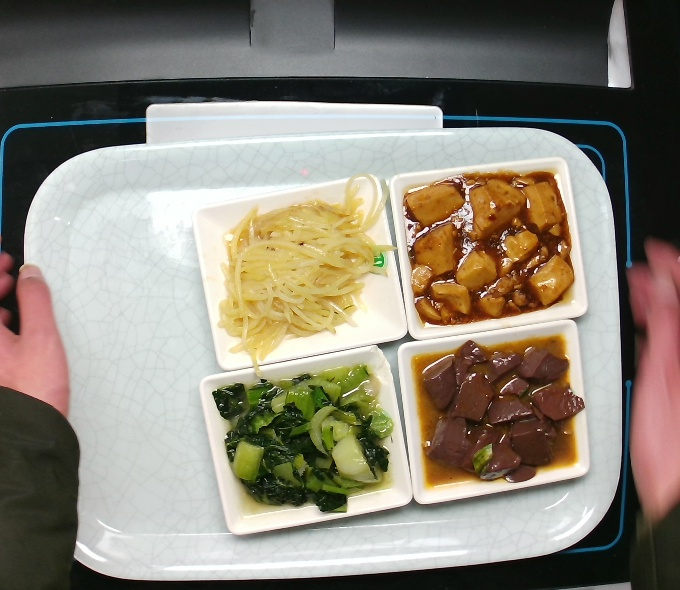wcq-MaPoDouFu: (401, 167, 577, 325)
wcq-NiuXue: (410, 342, 565, 505)
wcq-TuDouSi: (207, 201, 389, 340)
wcq-YouDongCai: (219, 367, 394, 511)
